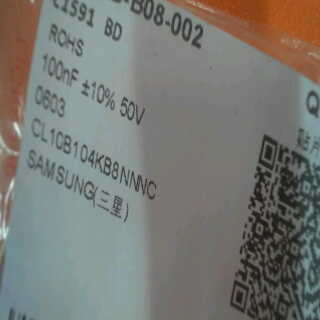100nF: (30, 54, 79, 88)
